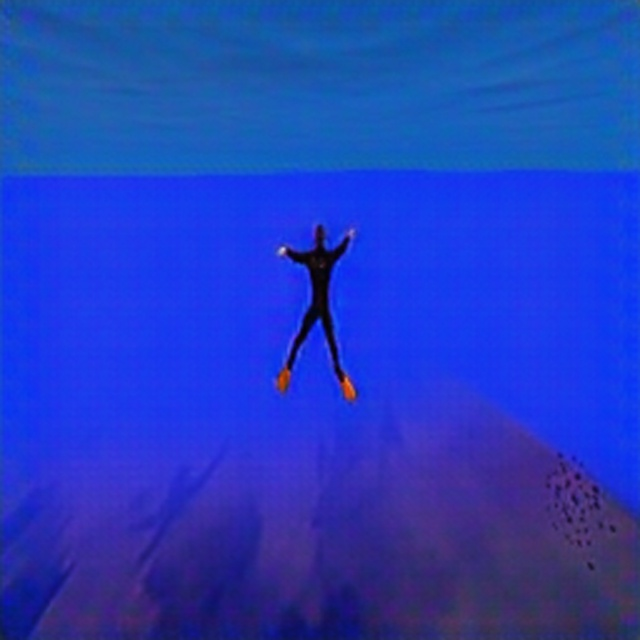diver: (273, 219, 360, 401)
